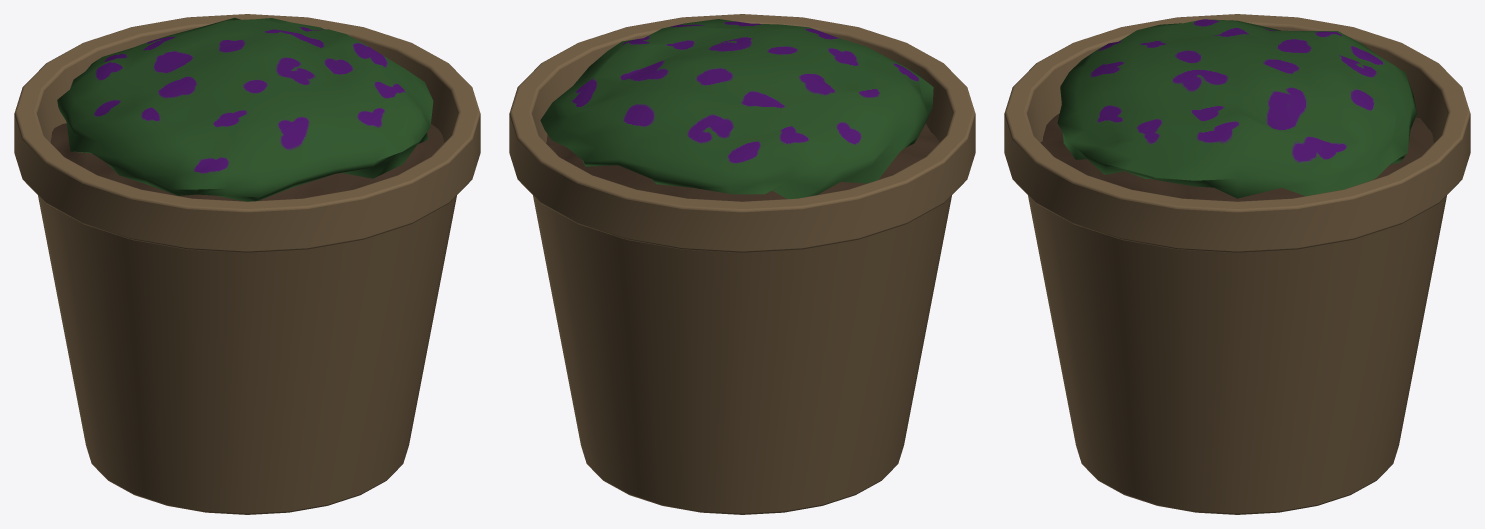
The model's file is blumentopf.fbx.
3 renders of one model, left to right at view 1: azimuth 30°, elevation 25°; view 2: azimuth 150°, elevation 25°; view 3: azimuth 270°, elevation 25°, orthographic.
Visible parts, largest first — view 1: Lathe, Würfel, Ebene; view 2: Lathe, Würfel, Ebene; view 3: Lathe, Würfel, Ebene.
Boxes of the visible parts, left/top/right/bottom form: Lathe: left=14, top=14, right=480, bottom=514; Würfel: left=57, top=18, right=433, bottom=201; Ebene: left=50, top=123, right=444, bottom=201; Lathe: left=509, top=14, right=975, bottom=514; Würfel: left=540, top=19, right=933, bottom=198; Ebene: left=546, top=123, right=939, bottom=201; Lathe: left=1004, top=14, right=1470, bottom=514; Würfel: left=1057, top=19, right=1416, bottom=198; Ebene: left=1040, top=113, right=1433, bottom=201.
Bounding box in the file's own units: 540 × 498 × 540.
3 materials, 1 textured.
